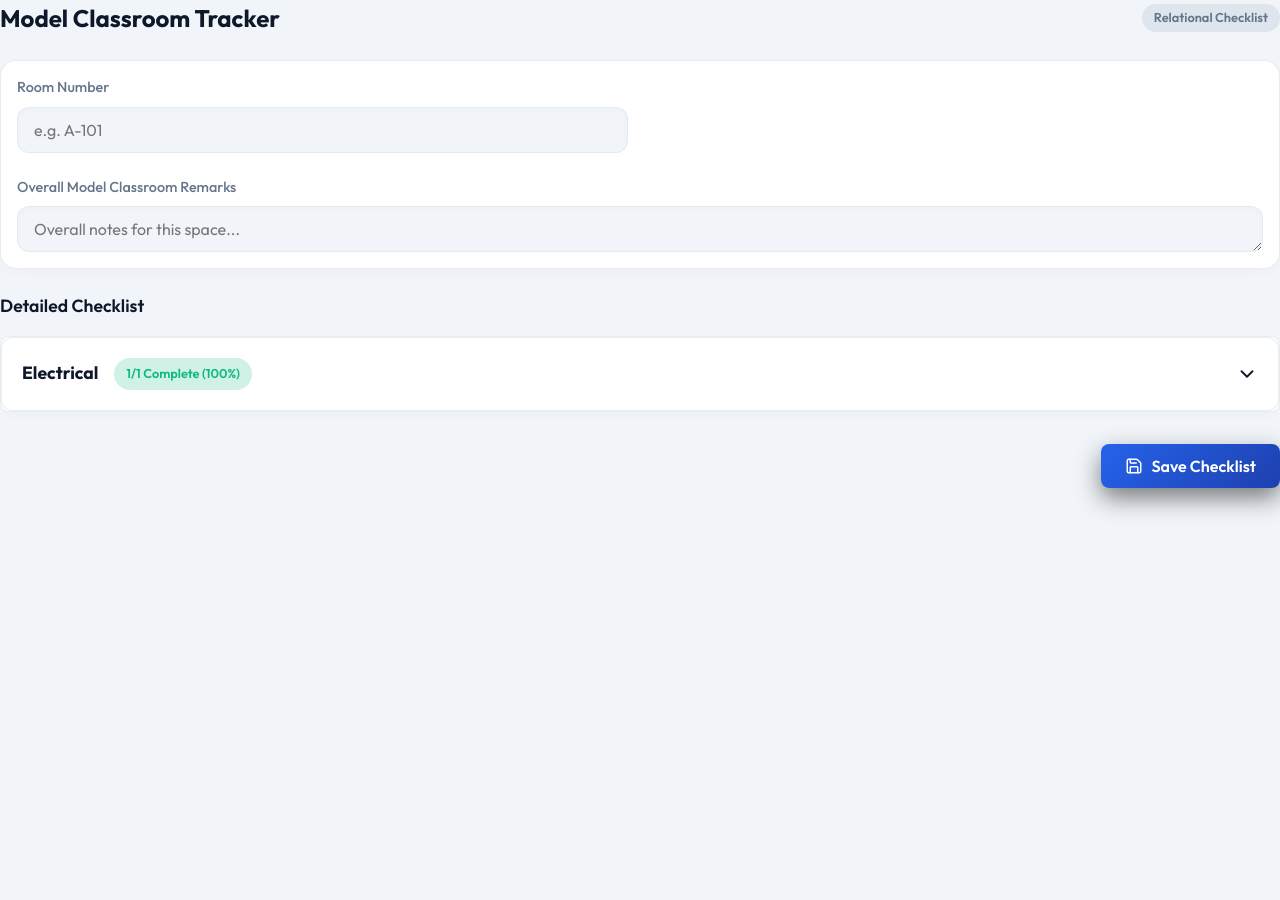
it: failed model remark save does not open a copy prompt
The image size is (1280, 900).
Click the button "Electrical 1/1 Complete (100%)" at [60, 373], box [1,337,1279,411]
(page scrolled)
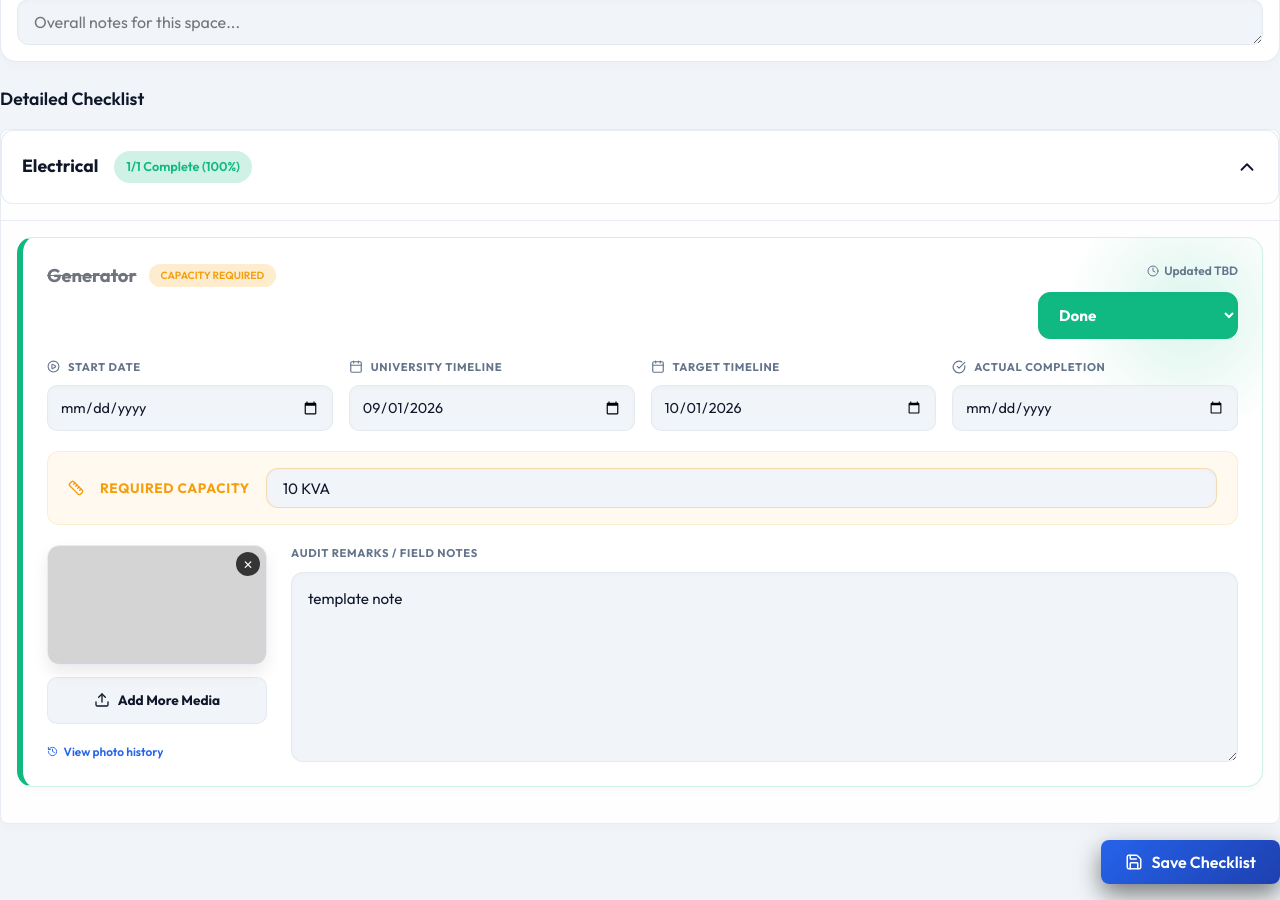
Replace the text in the text box labelled "Audit Remarks / Field Notes" with "failed model remark" at [764, 667], box [291,572,1238,762]
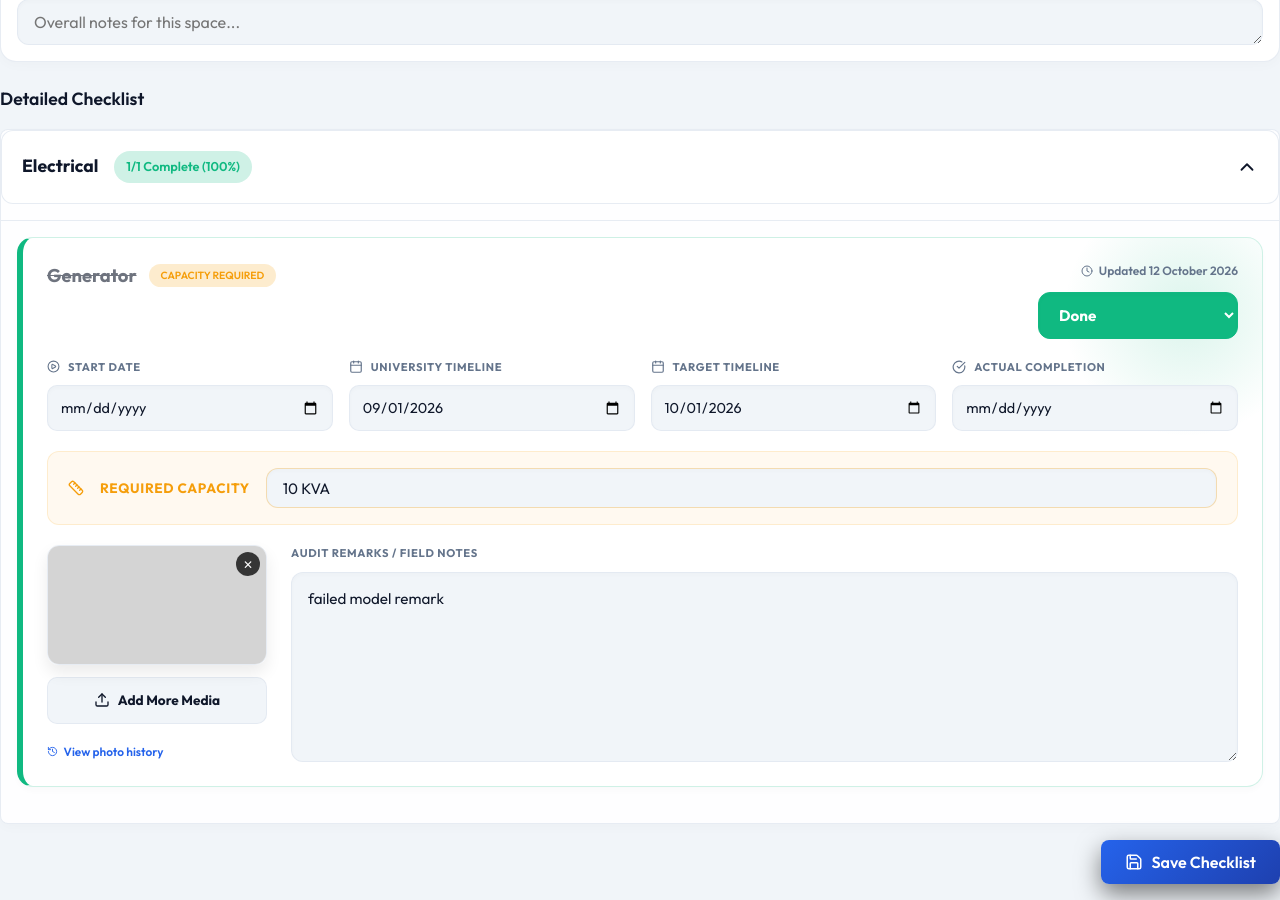
Leave the text box labelled "Audit Remarks / Field Notes", box [291,572,1238,762]
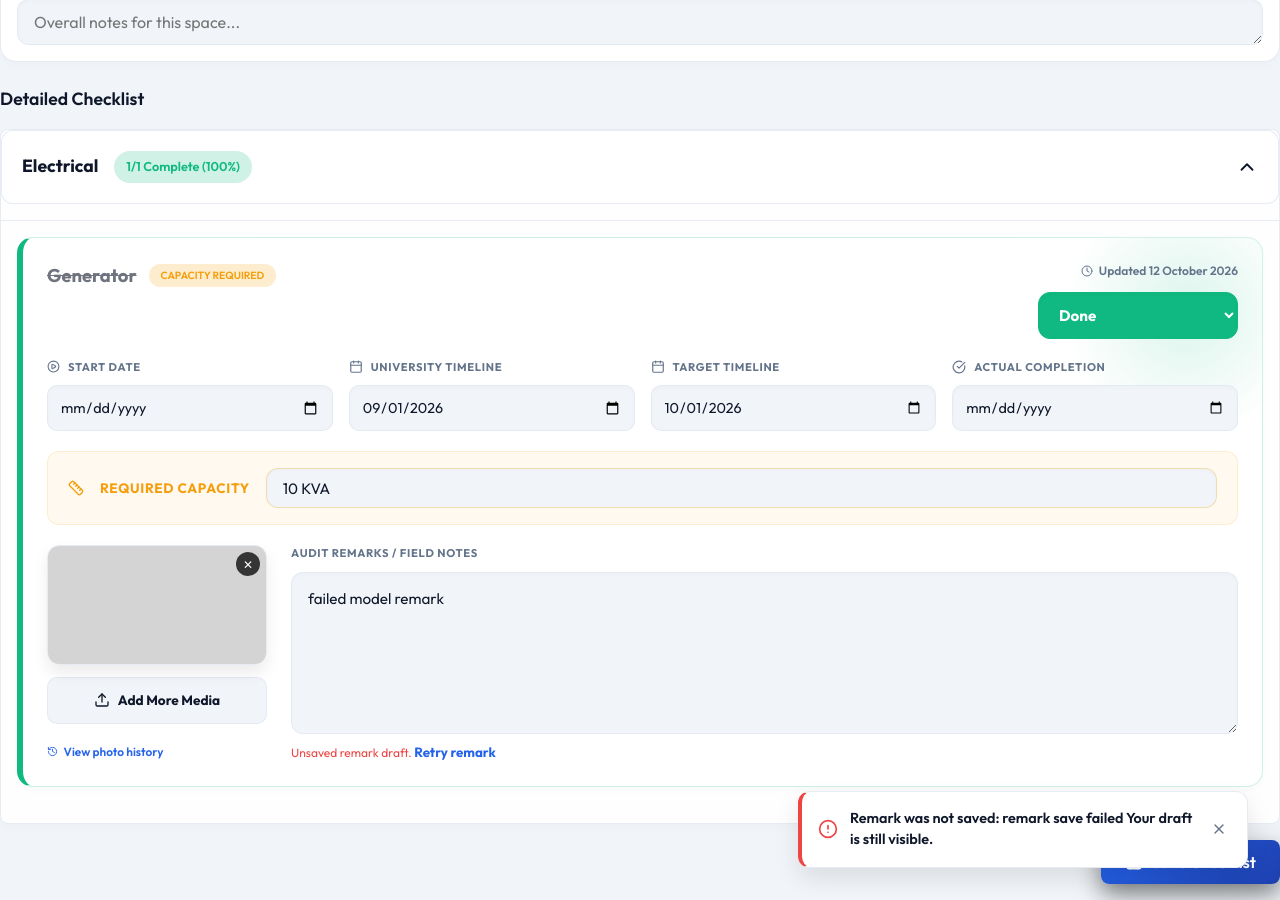
Expected: the text "Remark was not saved: remark save failed" is shown, [850,809,1192,848]
